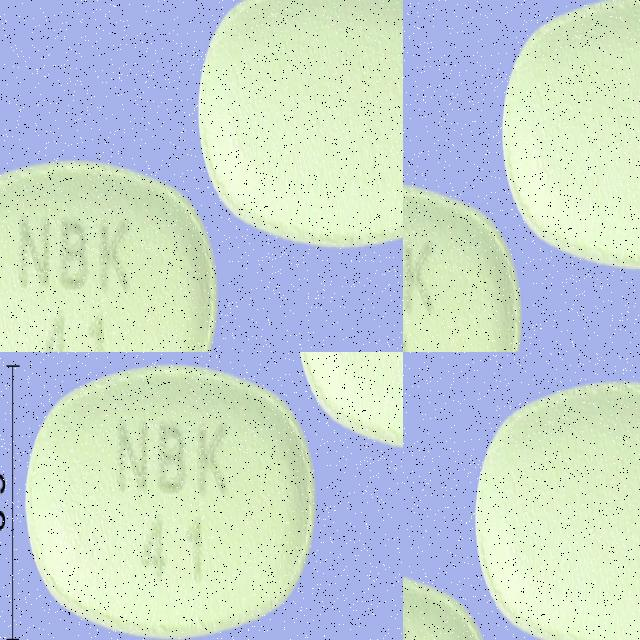Lathrocin: (474, 380, 640, 640)
Levotacin: (208, 0, 403, 352), (0, 0, 172, 352)
Propocin Tab: (403, 243, 575, 352)
TaeJoon Levofloxacin Tab: (24, 409, 363, 638)
